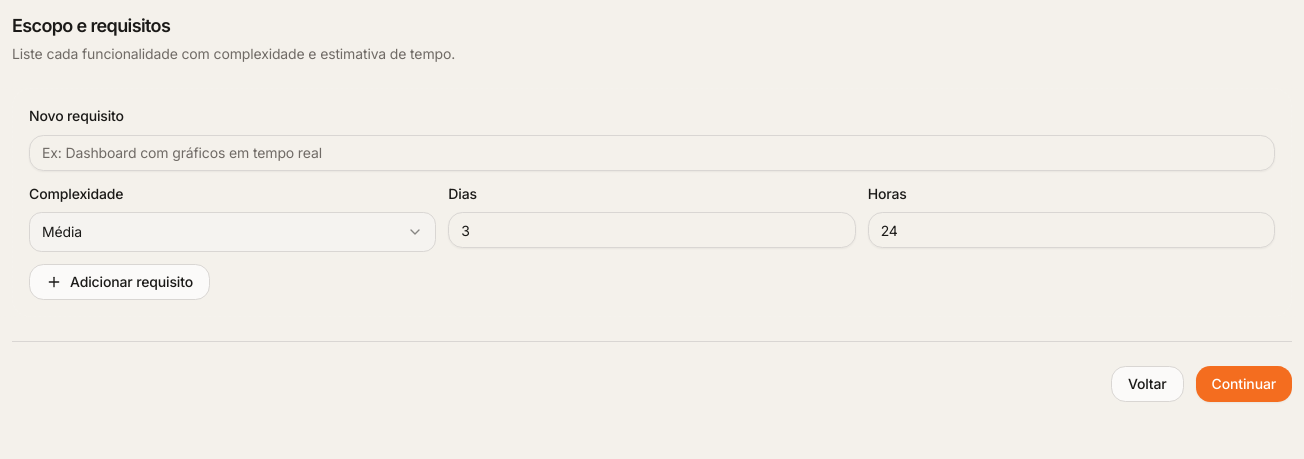
Test case: StepEscopo wizard (frontend) › exige ao menos um requisito para continuar
Step 1. Click the button "Continuar" → (1244, 384), box left=1196, top=366, right=1292, bottom=402
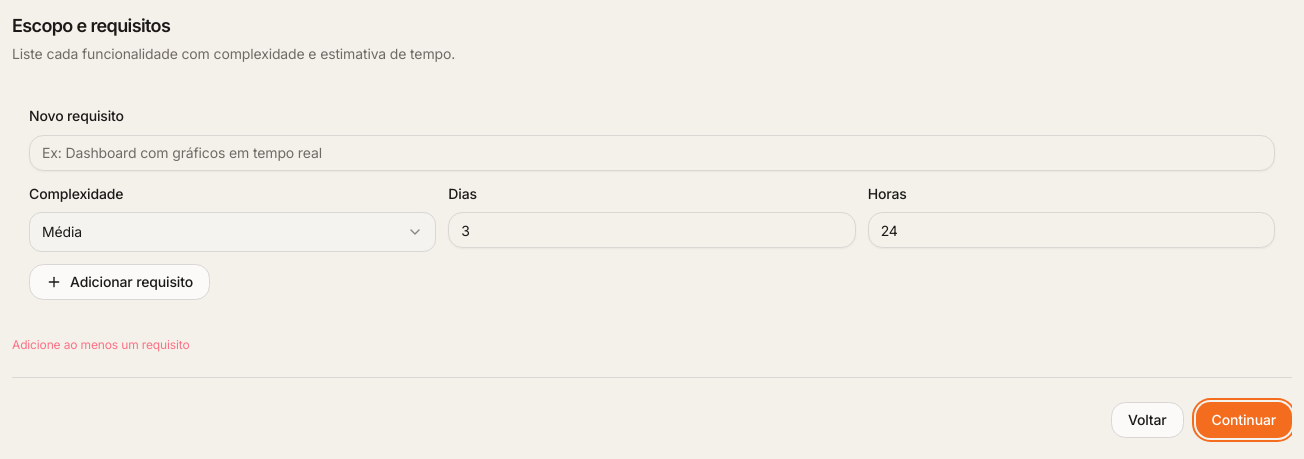
Expected: the text "Adicione ao menos um requisito" is shown, left=12, top=337, right=190, bottom=352
